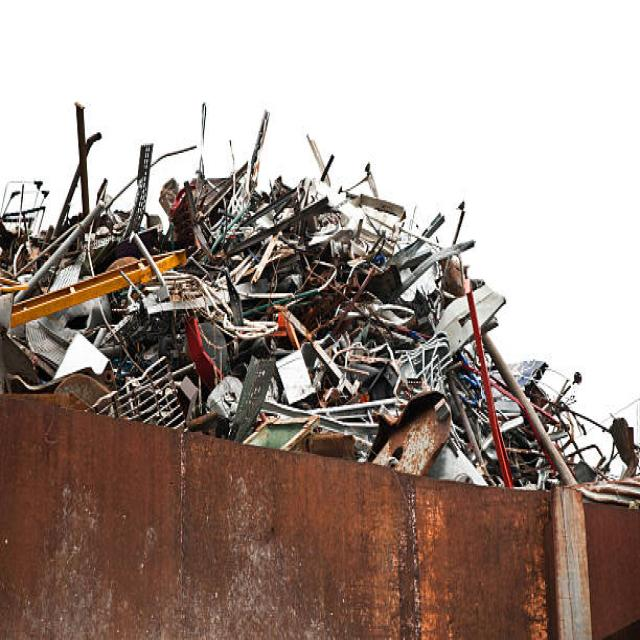metal: (9, 211, 188, 369), (198, 254, 382, 404), (462, 287, 530, 487), (199, 167, 342, 243)
